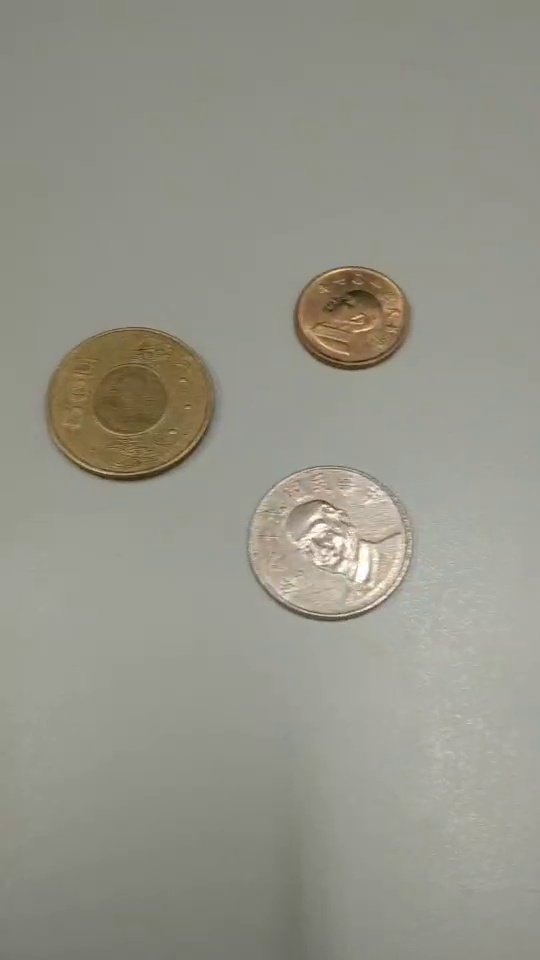NT$ 1: (293, 264, 411, 373)
NT$ 10: (244, 464, 413, 623)
NT$ 50: (46, 326, 217, 480)
